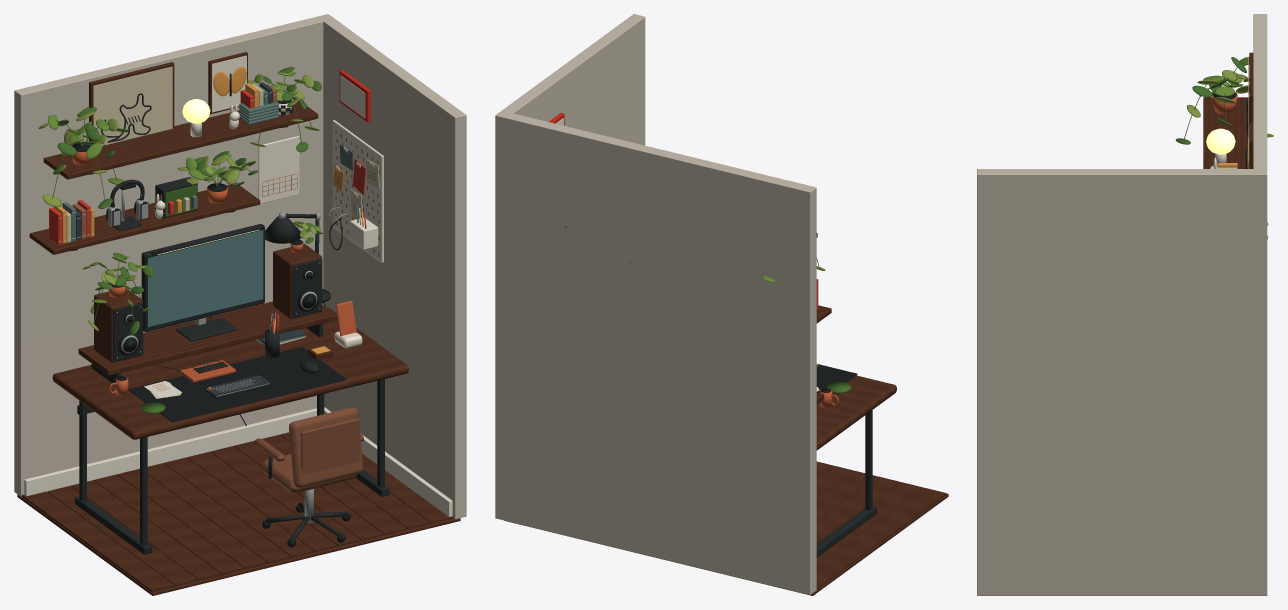
Rendered from desktop.glb.
The picture shows the model from 3 angles, left to right: view 1: azimuth 30°, elevation 25°; view 2: azimuth 150°, elevation 25°; view 3: azimuth 270°, elevation 25°; orthographic projection. The views are drawn at different scales.
Parts seen in each view (by area): view 1: Static Warm plaster, Static Walnut, Static Ivory, Static Charcoal enamel, Monitor_Screen, Static Rubber, Static Cognac leather, Static Binding 2, Static Foliage 0, Static Foliage 2, Static Terracotta, Static Foliage 1 (+7 smaller); view 2: Static Warm plaster, Static Walnut, Static Charcoal enamel, Static Rubber; view 3: Static Warm plaster, Static Walnut, Static Foliage 0, Static Foliage 2, Static Warm diffuser, Static Foliage 1.
Part boxes in pixels (box(x1,y1,x2,y2)): Static Warm plaster: box(14, 14, 466, 519); Static Walnut: box(17, 52, 460, 595); Static Ivory: box(24, 55, 452, 516); Static Charcoal enamel: box(69, 73, 389, 554); Monitor_Screen: box(148, 230, 263, 326); Static Rubber: box(72, 99, 350, 547); Static Cognac leather: box(254, 407, 363, 492); Static Binding 2: box(66, 66, 379, 345); Static Foliage 0: box(52, 67, 322, 413); Static Foliage 2: box(38, 72, 316, 331); Static Terracotta: box(71, 145, 356, 395); Static Foliage 1: box(48, 71, 320, 313); Static Warm plaster: box(495, 14, 816, 594); Static Walnut: box(504, 233, 948, 595); Static Charcoal enamel: box(816, 410, 877, 557); Static Rubber: box(816, 364, 857, 393); Static Warm plaster: box(977, 14, 1267, 595); Static Walnut: box(1203, 52, 1253, 168); Static Foliage 0: box(1176, 57, 1249, 144); Static Foliage 2: box(1186, 57, 1249, 117); Static Warm diffuser: box(1206, 128, 1235, 154); Static Foliage 1: box(1199, 57, 1273, 239).
Bounding box in the file's own units: 2.7 × 3.32 × 2.11.
23 materials, 1 textured.
